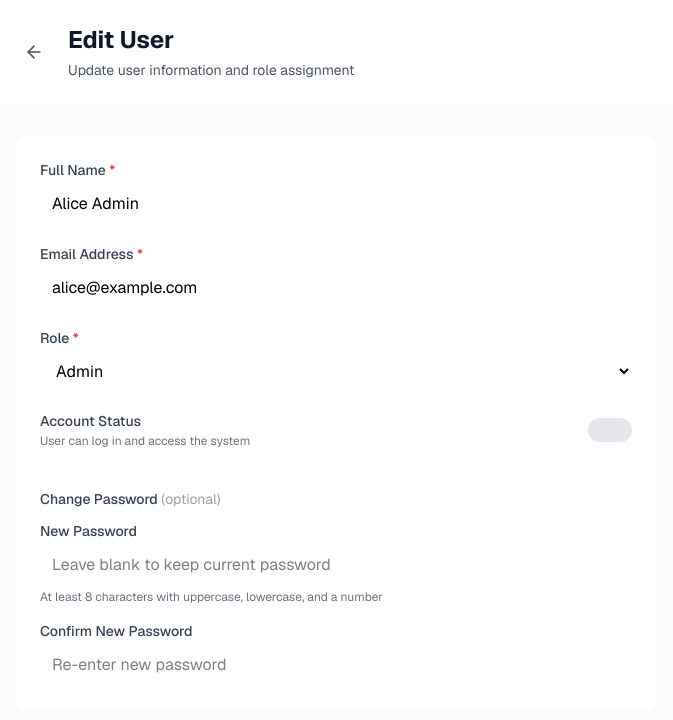
EditUserPage › shows validation error when name is too short
Replace the text in the field labelled "Full Name *" with "A". click: x=336, y=204
box: [40, 184, 632, 224]
(page scrolled)
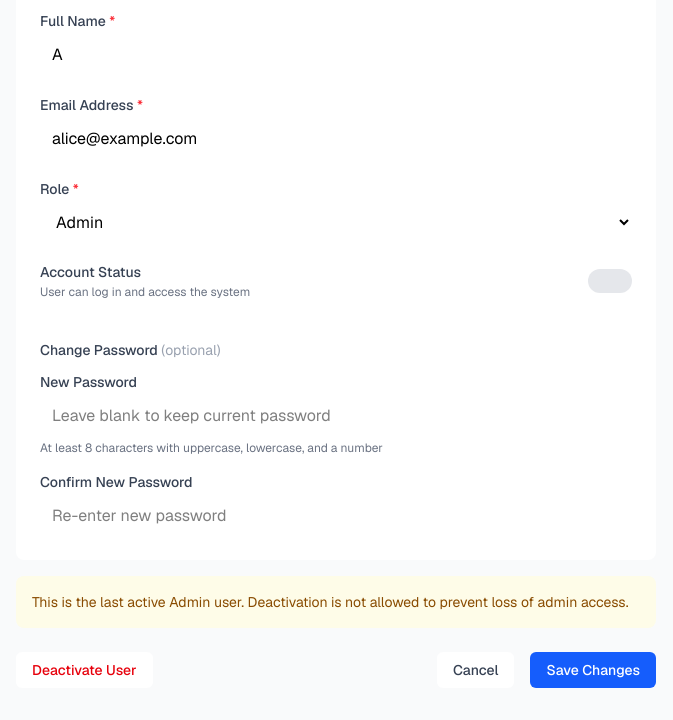
Click the button "Save Changes". click: x=593, y=670
box: [530, 652, 656, 688]
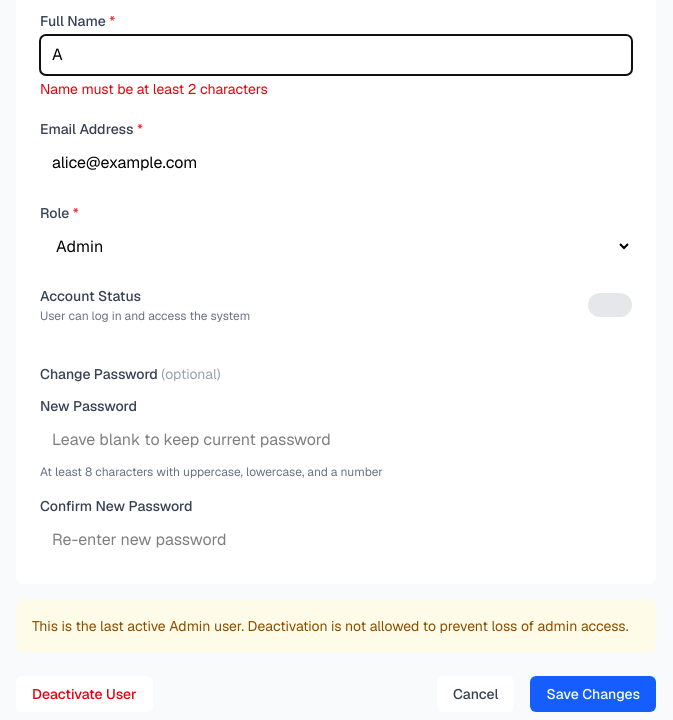
Check: the text "Name must be at least 2 characters" is shown, box [40, 80, 268, 98]
